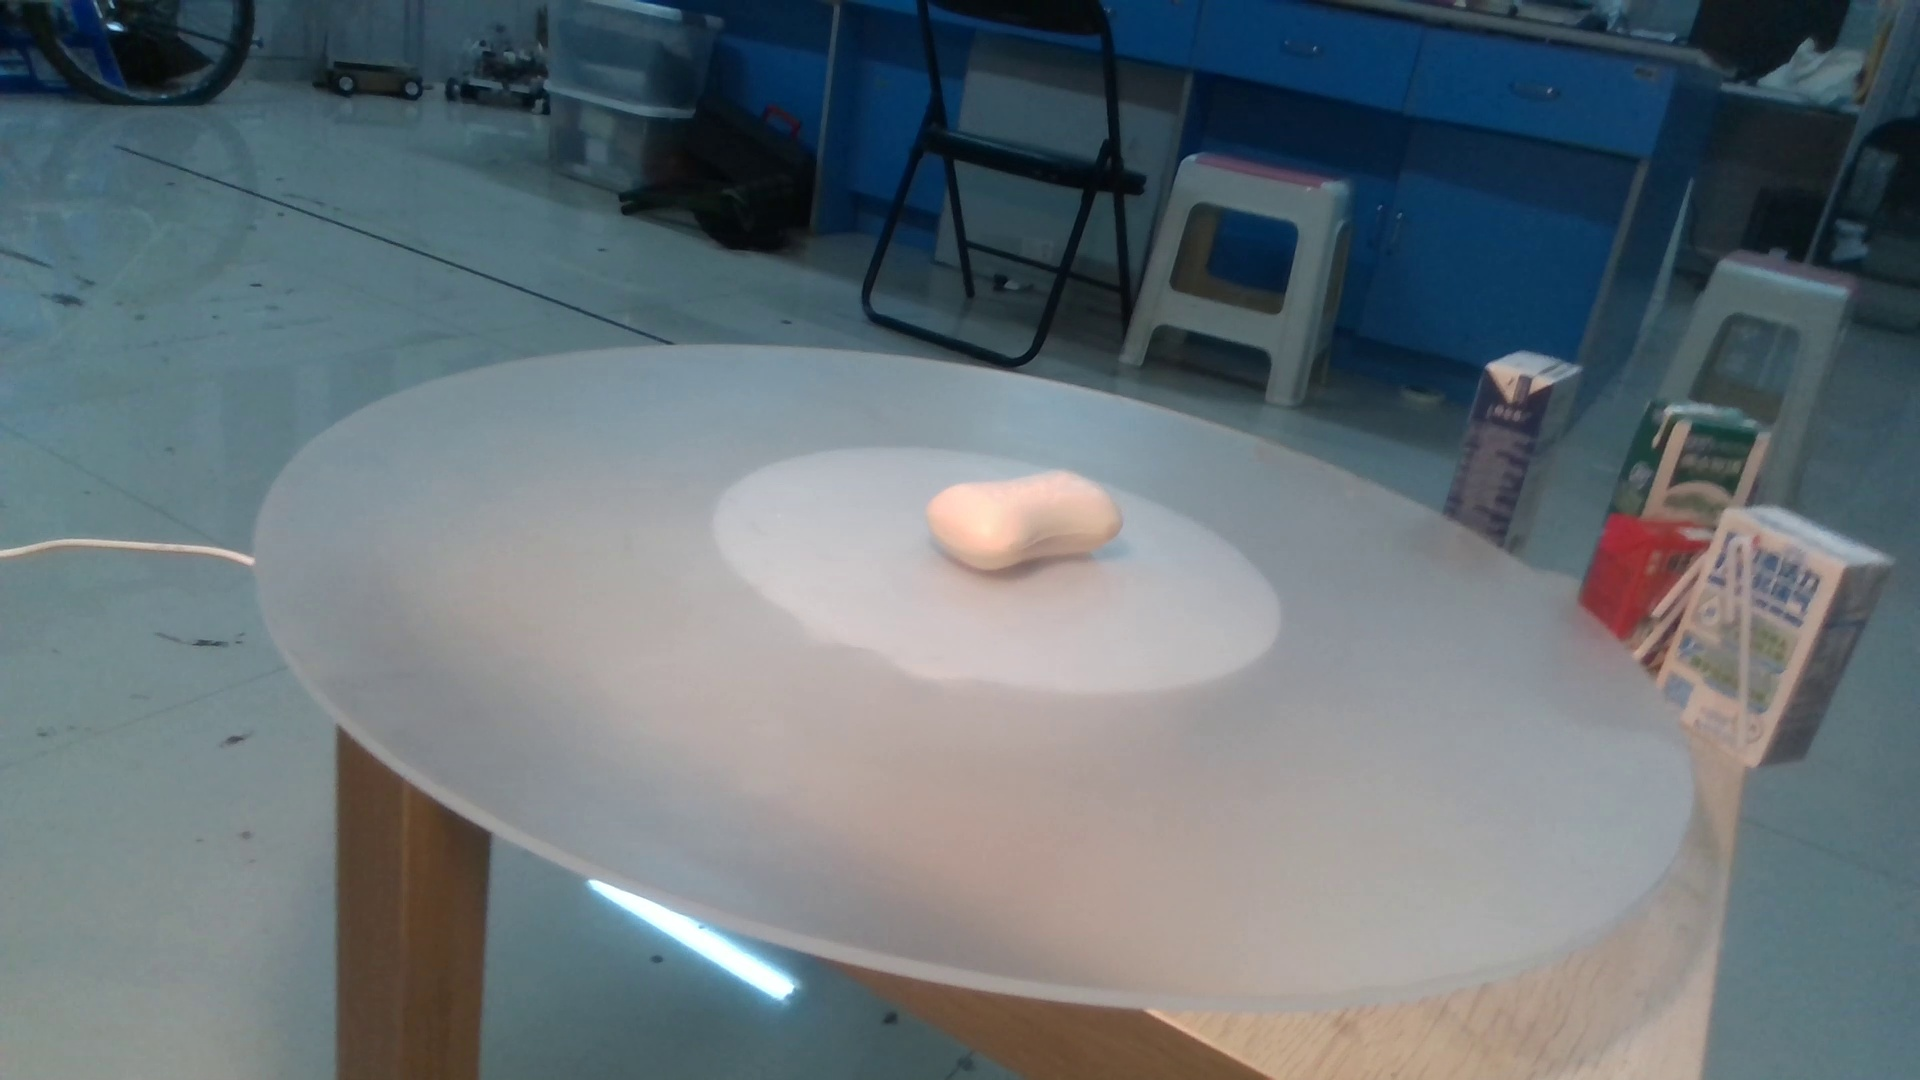CA003_1: (924, 458, 1174, 595)
